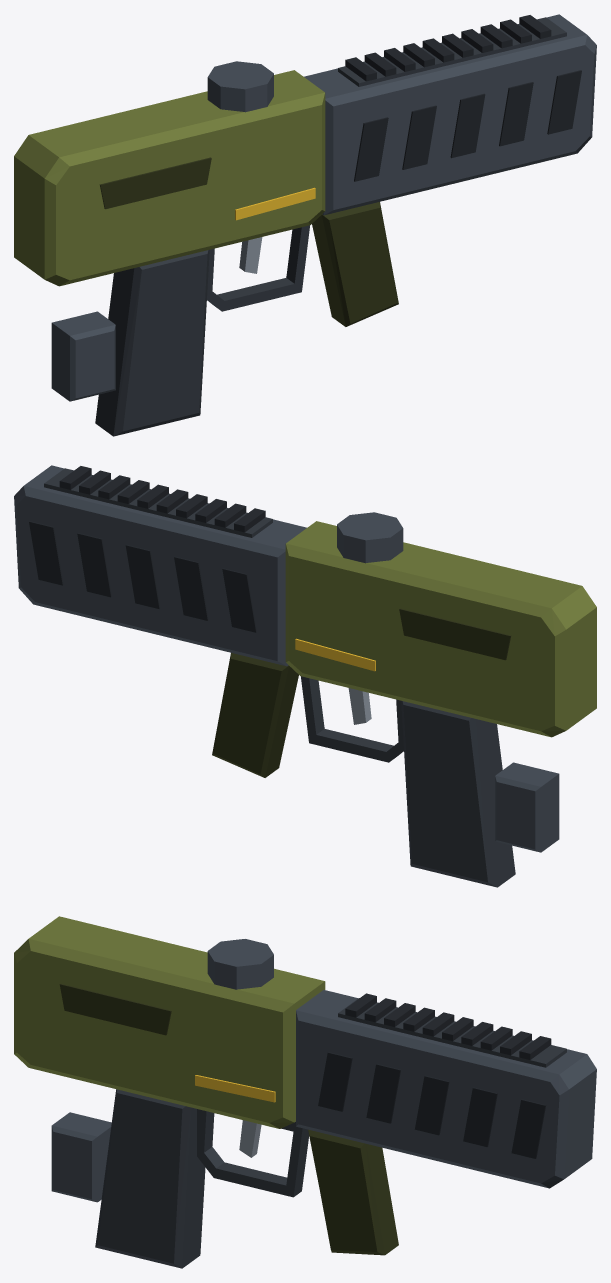
The model's file is bulldog.glb.
The picture shows the model from 3 angles, top to bottom: view 1: azimuth 30°, elevation 25°; view 2: azimuth 150°, elevation 25°; view 3: azimuth 330°, elevation 25°; orthographic projection.
Visible parts, largest first — view 1: bulldog_body; view 2: bulldog_body; view 3: bulldog_body.
Part boxes in pixels (<box>): bulldog_body: <box>14,14,596,436</box>; bulldog_body: <box>14,465,596,887</box>; bulldog_body: <box>14,916,596,1268</box>.
Size of the model in its own units: 0.458 by 0.254 by 0.0587.
